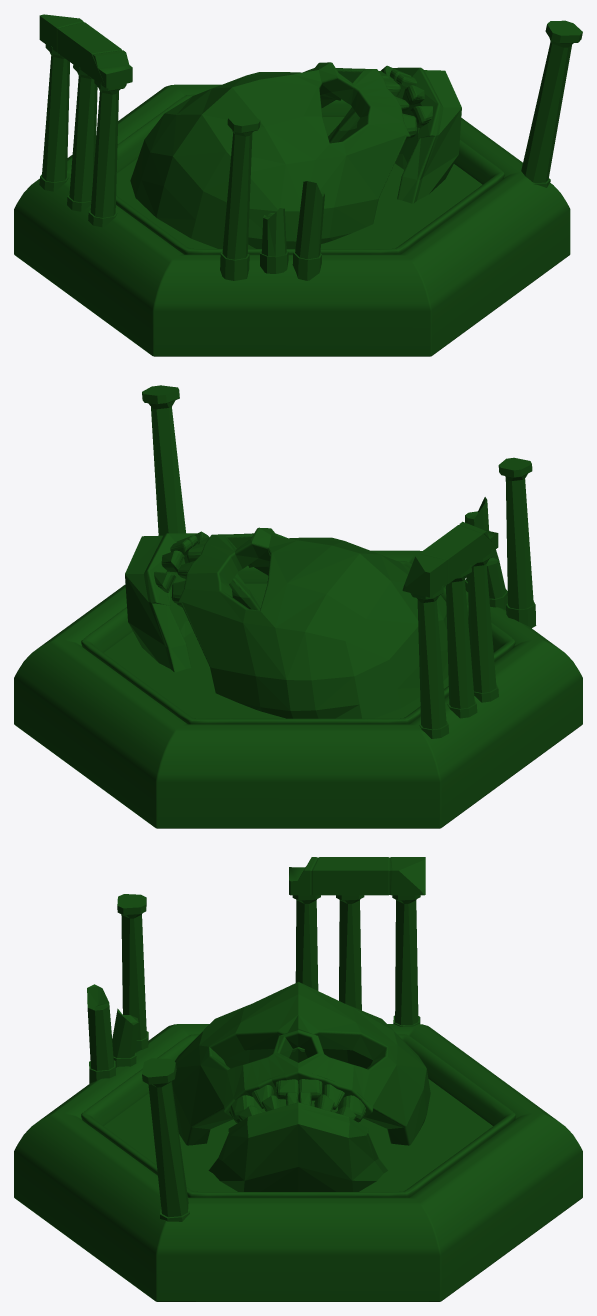
File: Hex_Spawner.fbx
3 renders of one model, top to bottom at view 1: azimuth 30°, elevation 25°; view 2: azimuth 150°, elevation 25°; view 3: azimuth 270°, elevation 25°, orthographic. The views are drawn at different scales.
Visible parts, largest first — view 1: Hex_Spawner; view 2: Hex_Spawner; view 3: Hex_Spawner.
Boxes of the visible parts, x1,y1,x2,y2 form: Hex_Spawner: [14, 14, 582, 356]; Hex_Spawner: [14, 385, 582, 828]; Hex_Spawner: [14, 857, 582, 1301].
Bounding box in the file's own units: 1762 × 951 × 1993.
